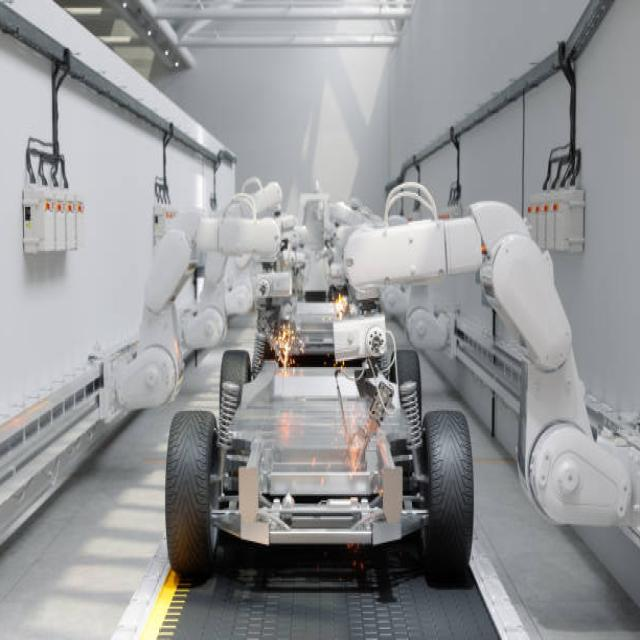Robotic-arm: (344, 180, 640, 572), (88, 196, 287, 420)
